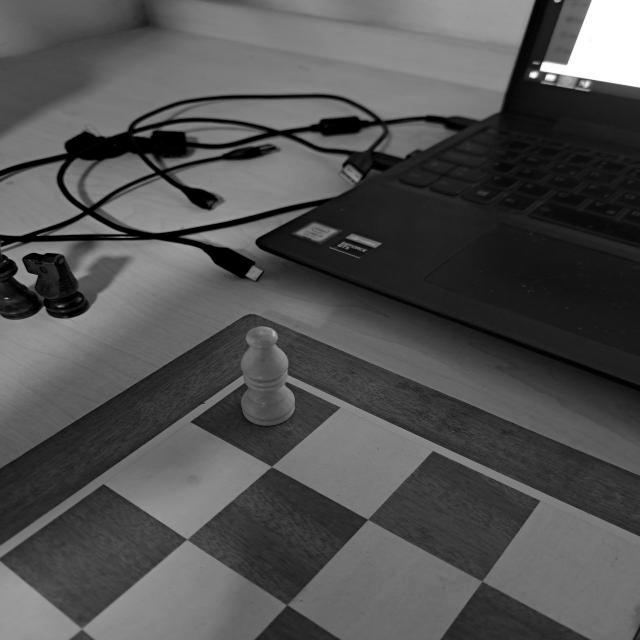chess-table-corners: (212, 348, 314, 406)
